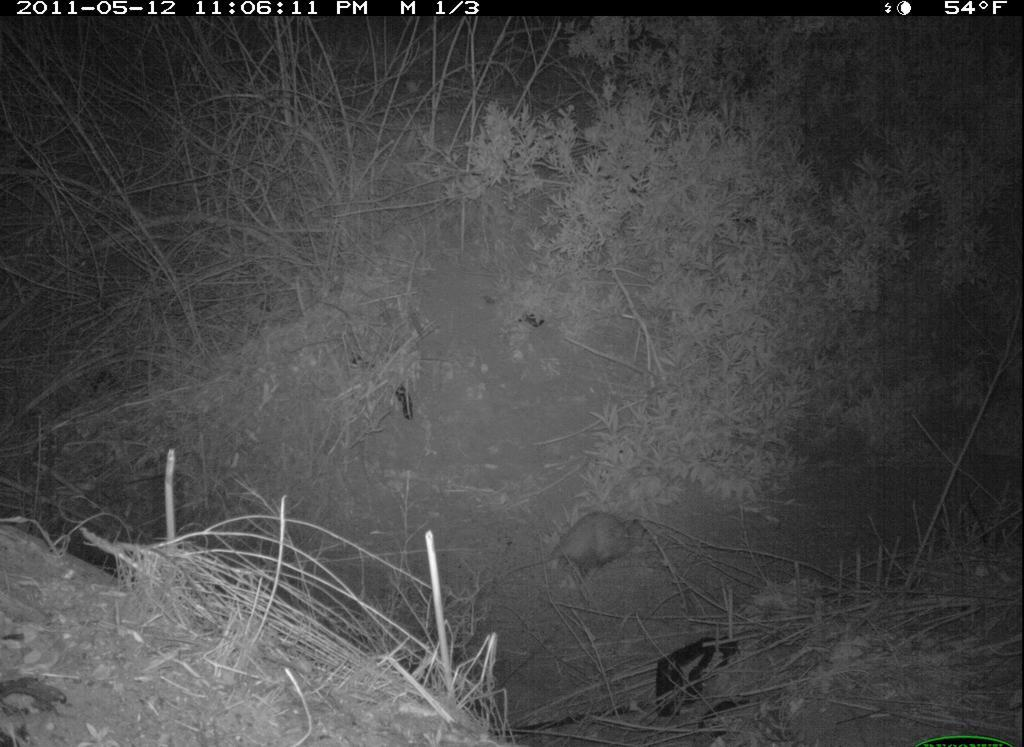opossum: (498, 502, 658, 602)
